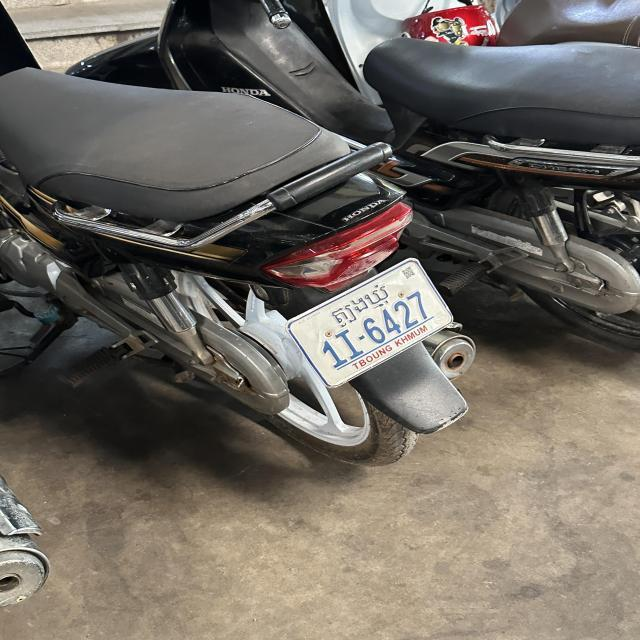Tboung_Khmum: (330, 284, 390, 328)
